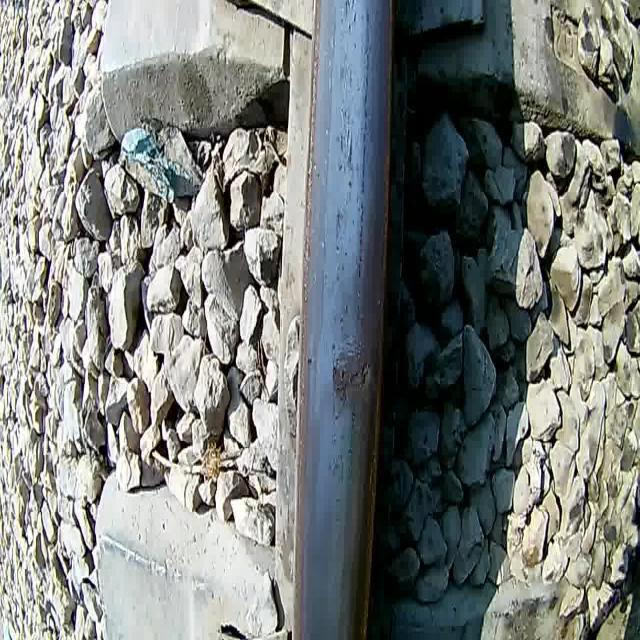Squats: (328, 338, 379, 417)
